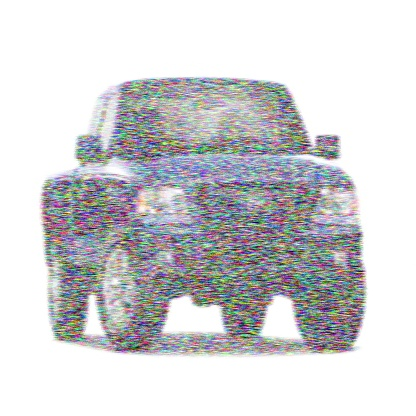Vehicle: (39, 76, 369, 357)
